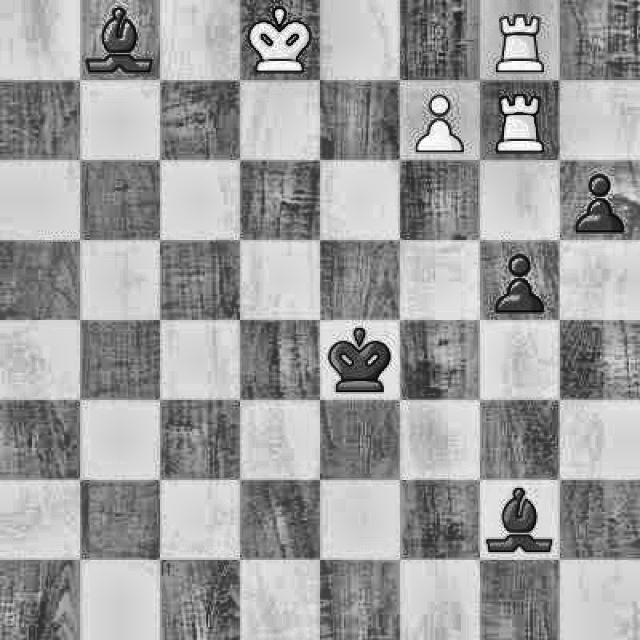black bishop: (84, 0, 159, 77), (486, 484, 558, 557)
black king: (329, 324, 392, 396)
black pawn: (566, 167, 636, 236), (492, 246, 548, 314)
white king: (247, 0, 310, 78)
white pawn: (410, 82, 468, 153)
white rook: (489, 89, 552, 154), (488, 7, 548, 74)
